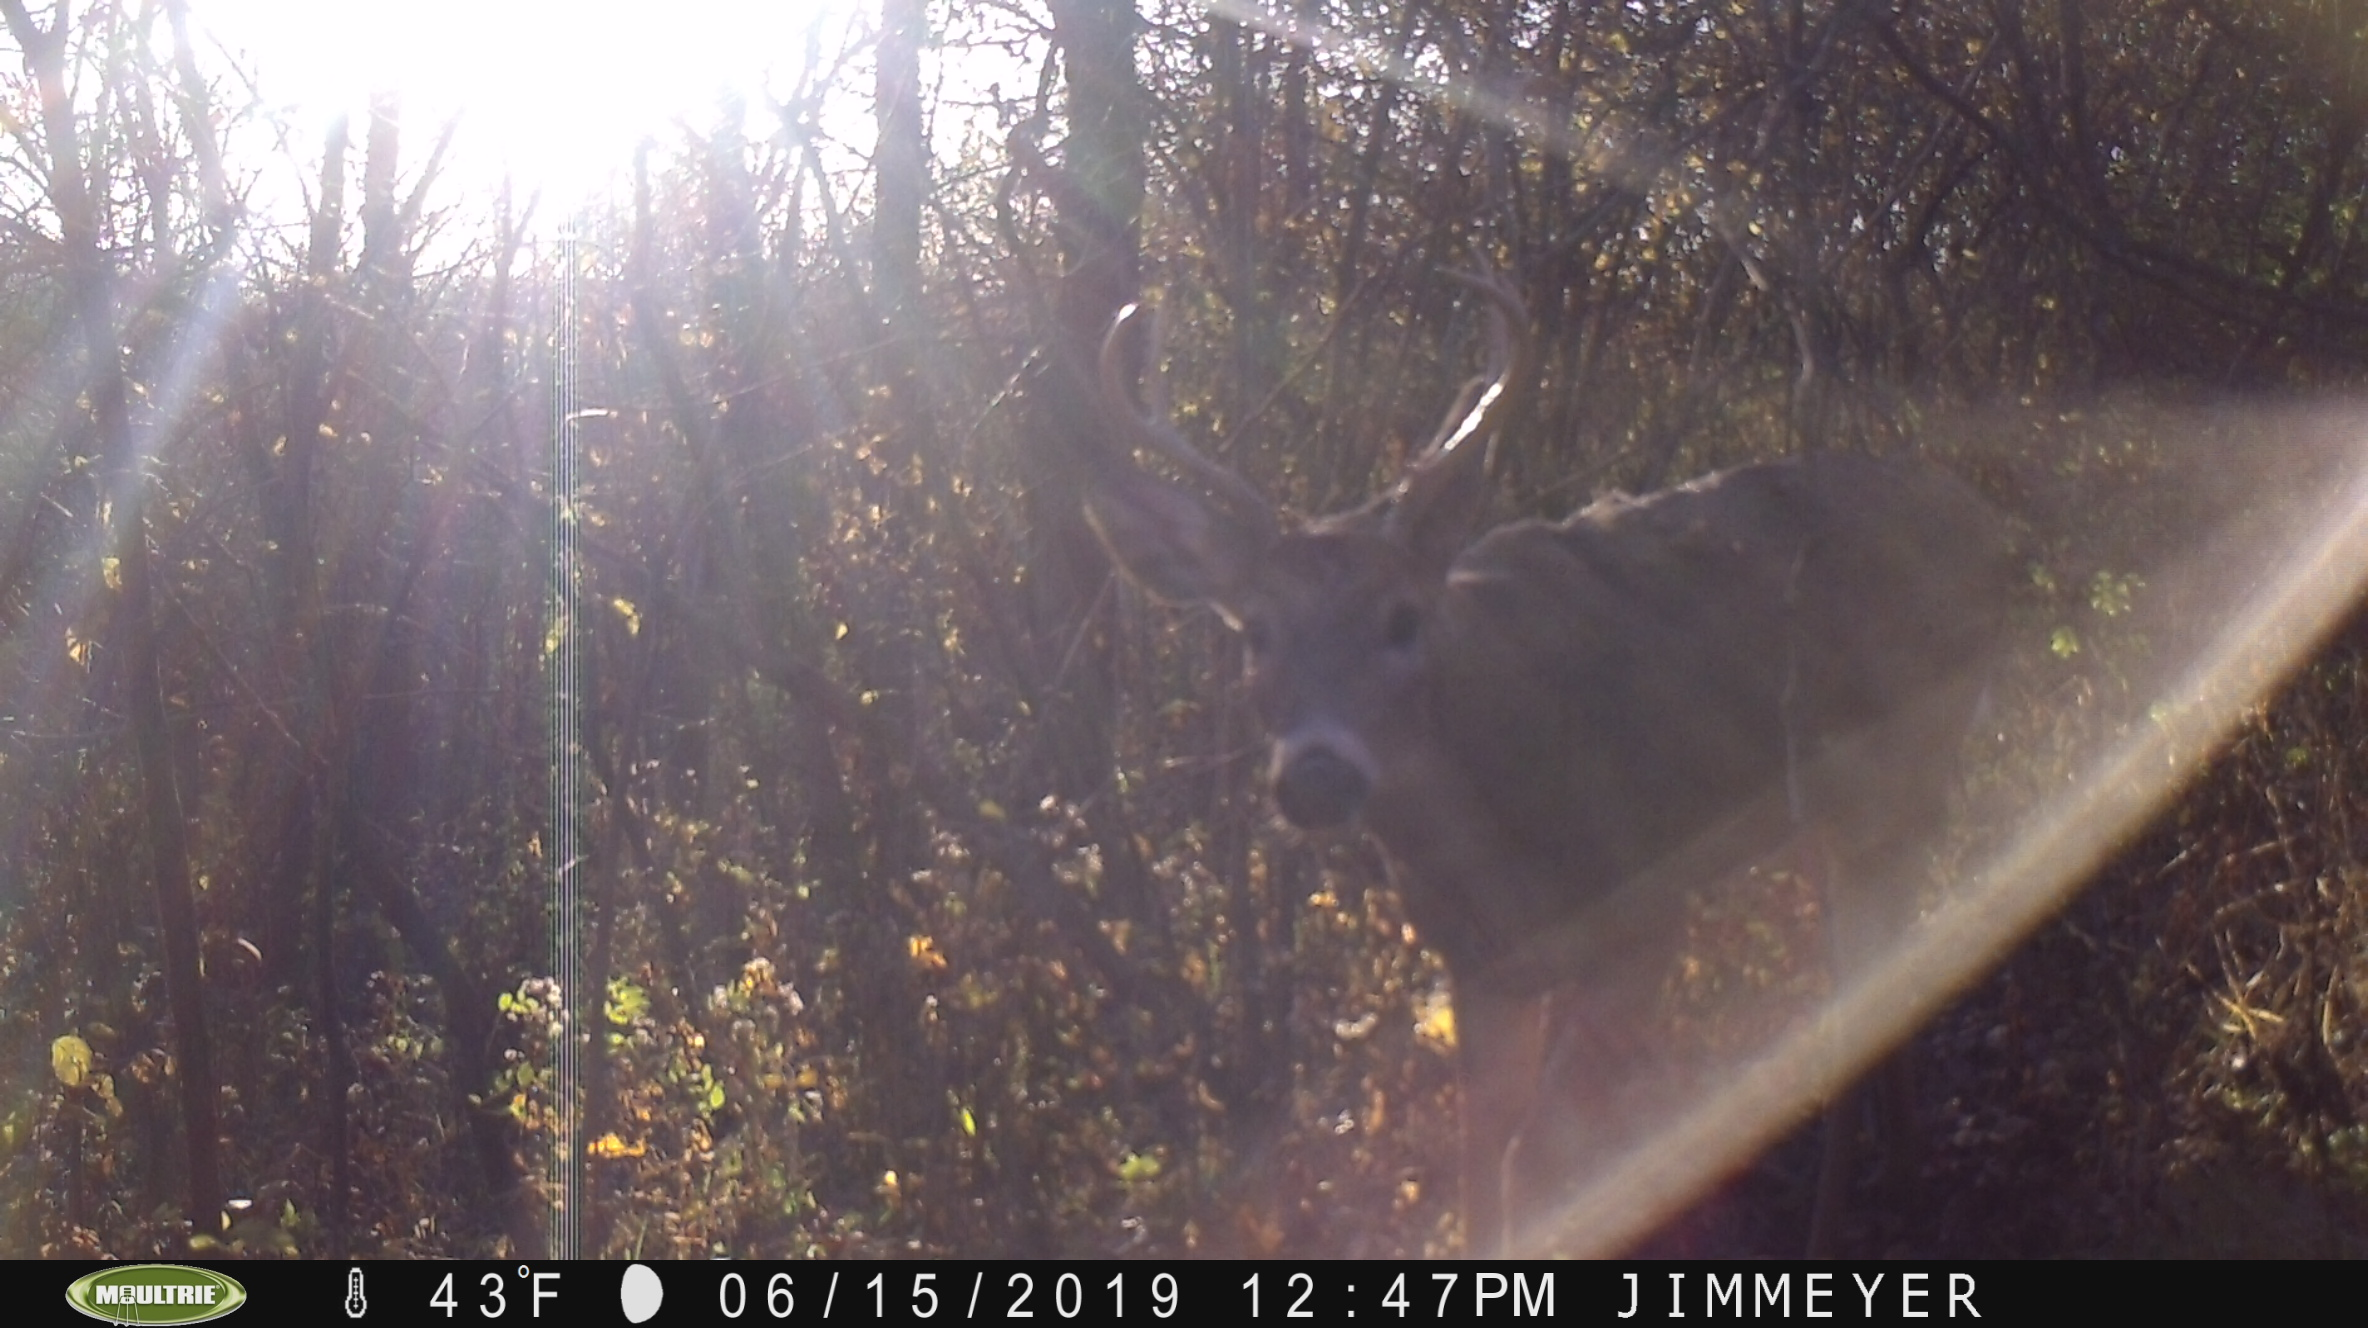DeerBuck: (1075, 243, 2008, 1258)
DeerBuckHead: (1073, 245, 1539, 834)
